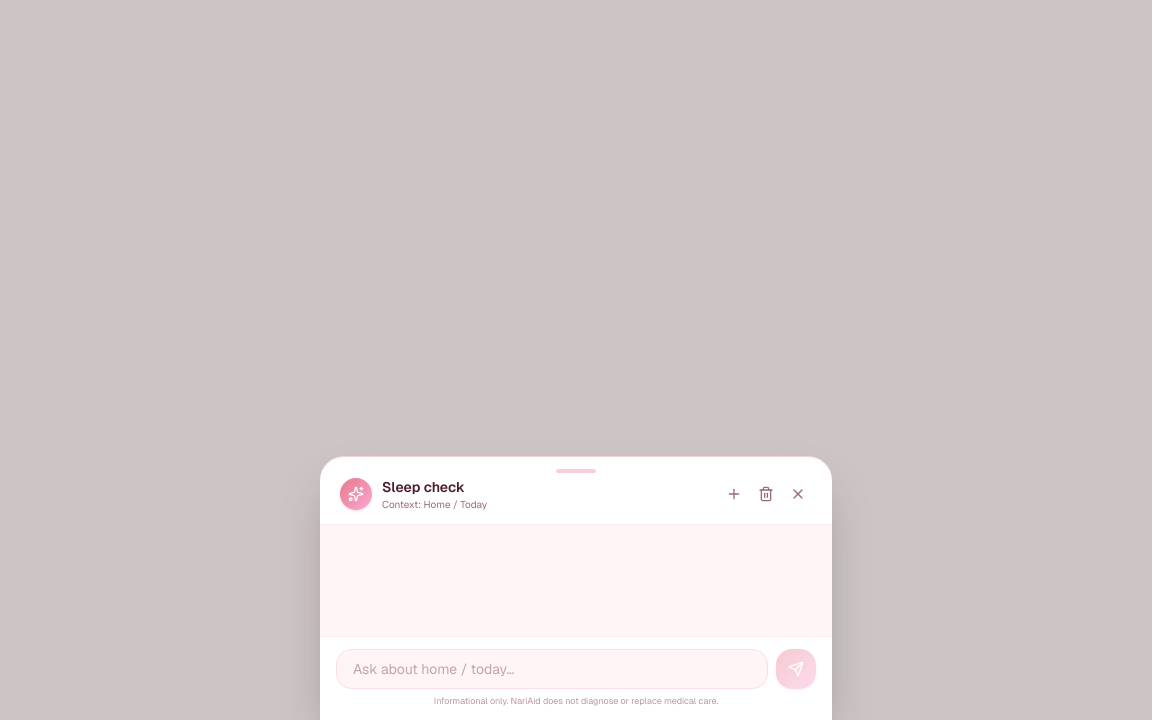
Test: Ask Nari consent flow › deletes the current conversation after confirmation
Click the button named "Delete conversation": (766, 494) [752,480,780,508]
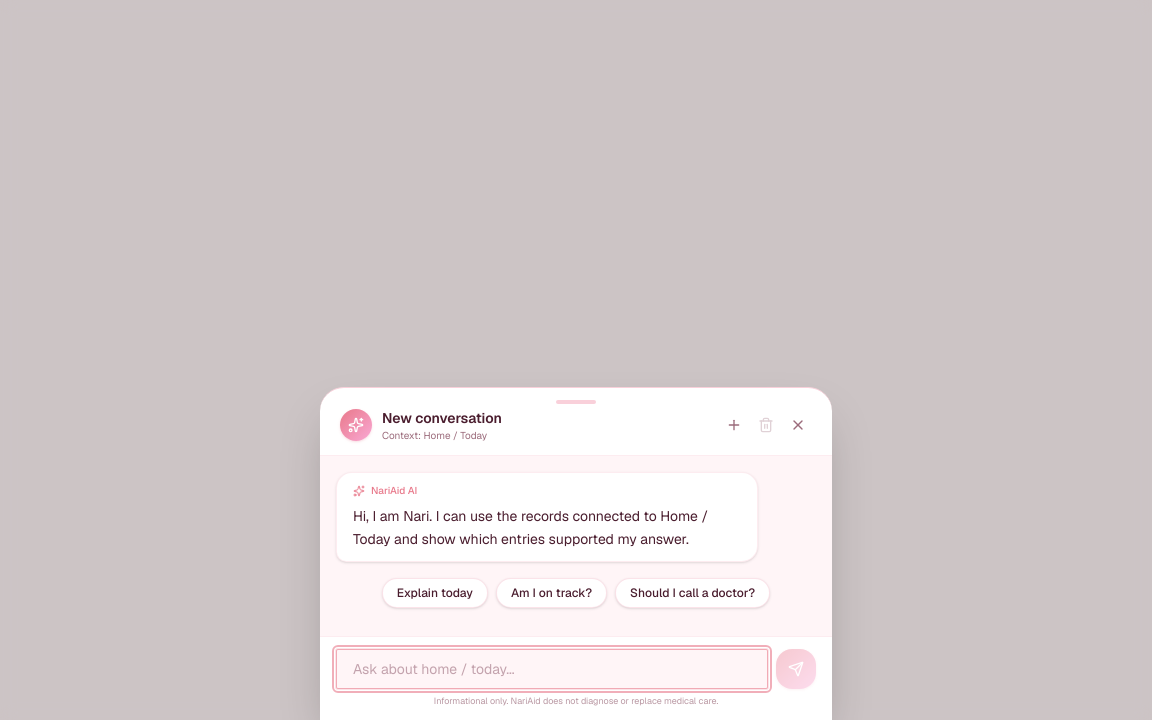
Now the text "Hi, I am Nari" is shown, box [353,507,708,548]
